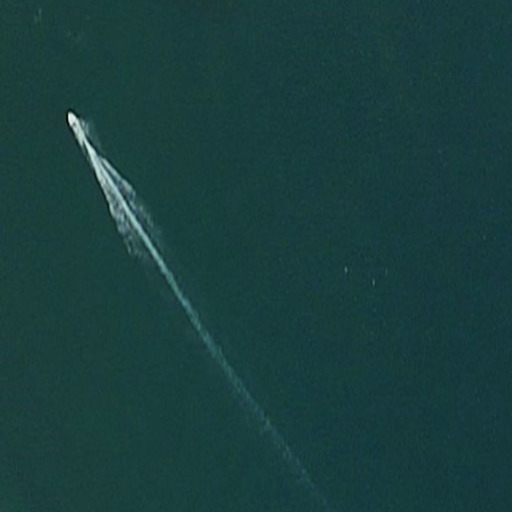ship: (63, 107, 86, 143)
